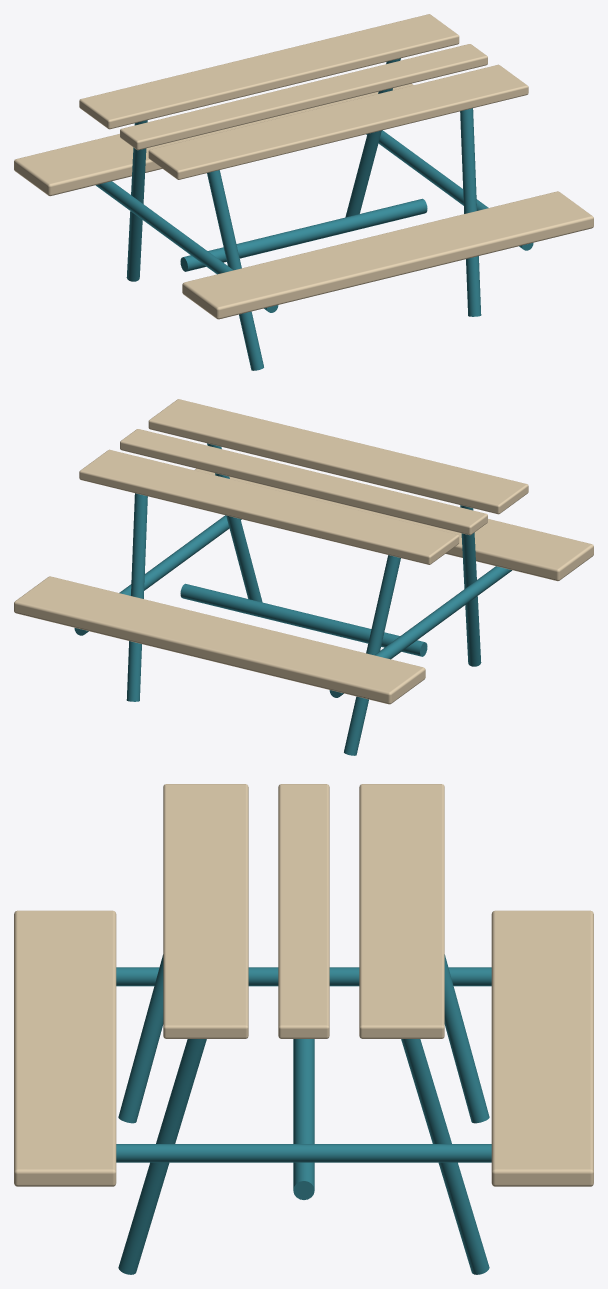
Rendered from bicycle-shop-and-repair-cafe-cafe-bench-table-519760ea__32429.glb.
3 views of the same model, one above another, from view 1: azimuth 30°, elevation 25°; view 2: azimuth 150°, elevation 25°; view 3: azimuth 270°, elevation 25° (orthographic). The views are drawn at different scales.
Parts seen in each view (by area): view 1: cafe-bench-table; view 2: cafe-bench-table; view 3: cafe-bench-table.
Boxes of the visible parts, <box> form: cafe-bench-table: <box>14,14,593,370</box>; cafe-bench-table: <box>14,399,593,755</box>; cafe-bench-table: <box>14,784,593,1274</box>.
Bounding box in the file's own units: 1.45 × 0.756 × 1.36.
